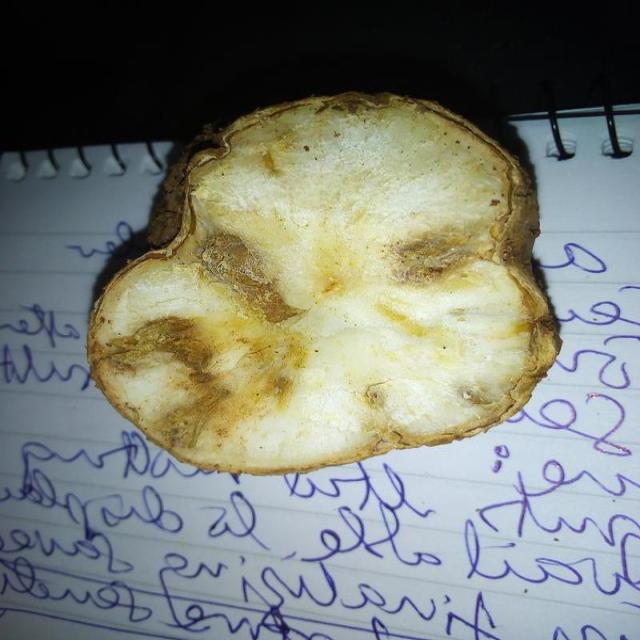cassava leaf: (86, 88, 563, 476)
